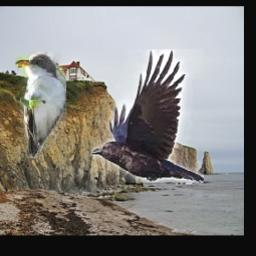Crow: (91, 50, 204, 183)
Cuckoo: (16, 53, 67, 159)
